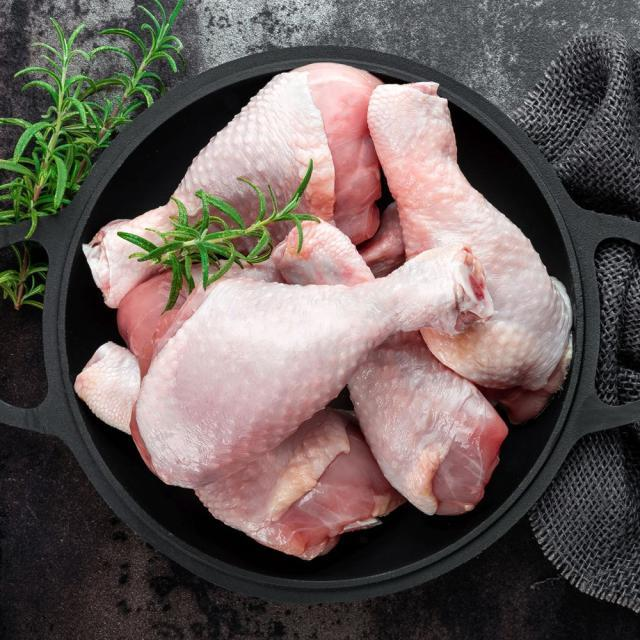leg: (130, 247, 491, 466), (272, 211, 505, 513), (78, 341, 386, 558), (66, 69, 387, 276), (365, 68, 576, 374)
